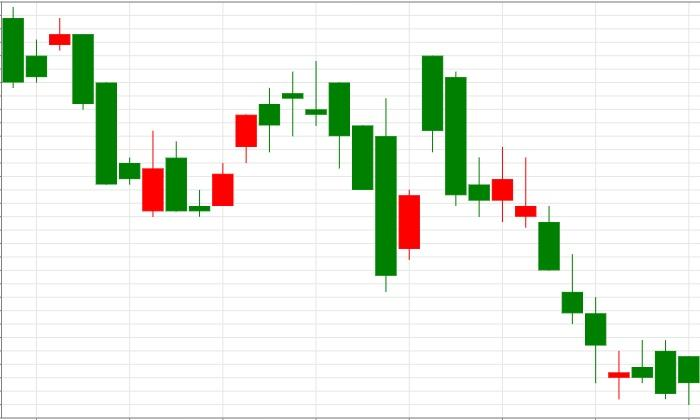inverse_hammer_rise: (423, 55, 584, 324)
morning_star_rise: (49, 17, 234, 218)
